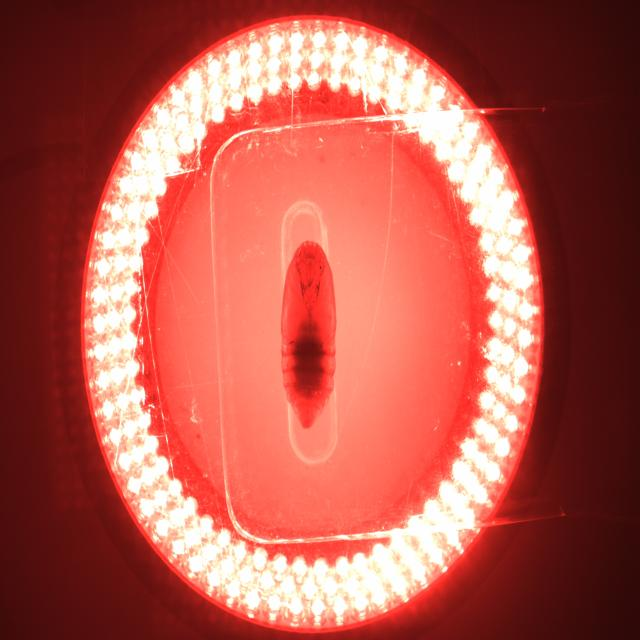female: (304, 407, 310, 416)
